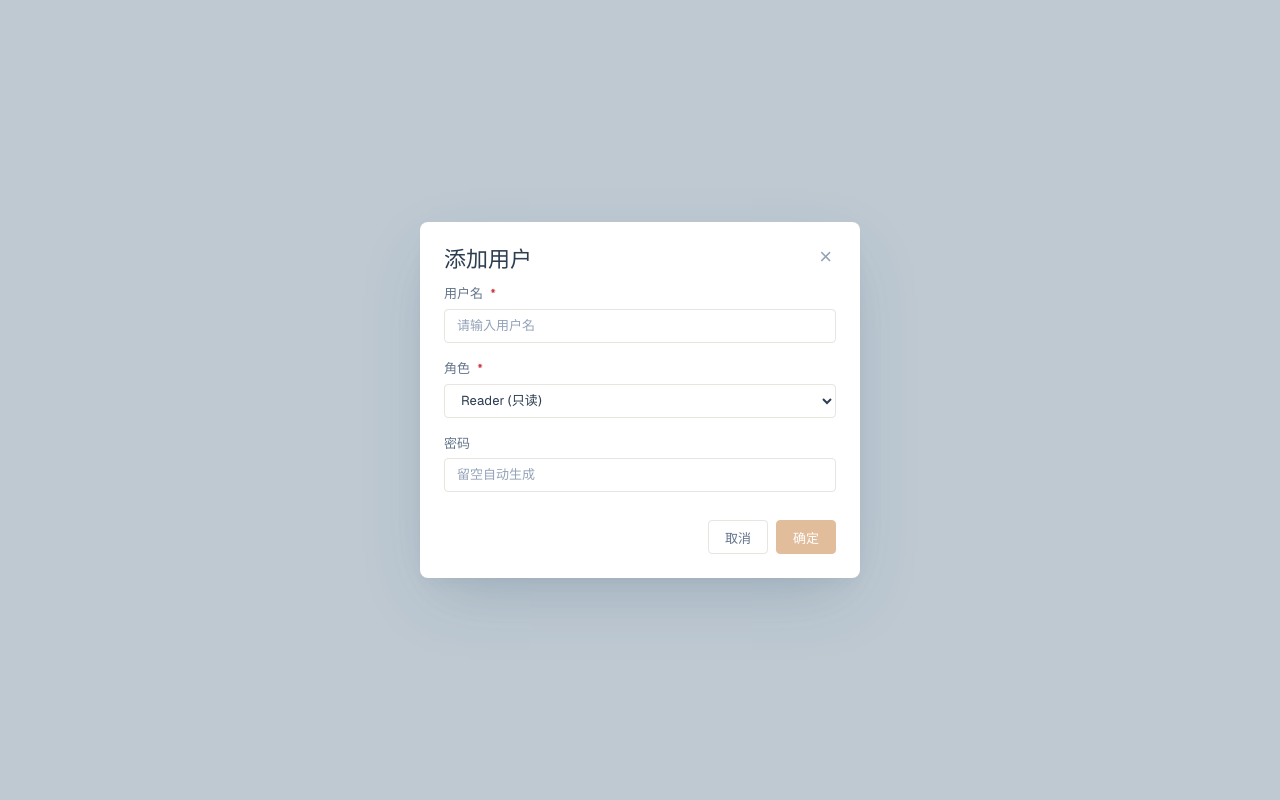
Scenario: CreateUserDialog › shows error message on API failure
The image size is (1280, 800).
Type "dupuser" into the field with placeholder "请输入用户名" at (640, 326), box [444,309,836,343]
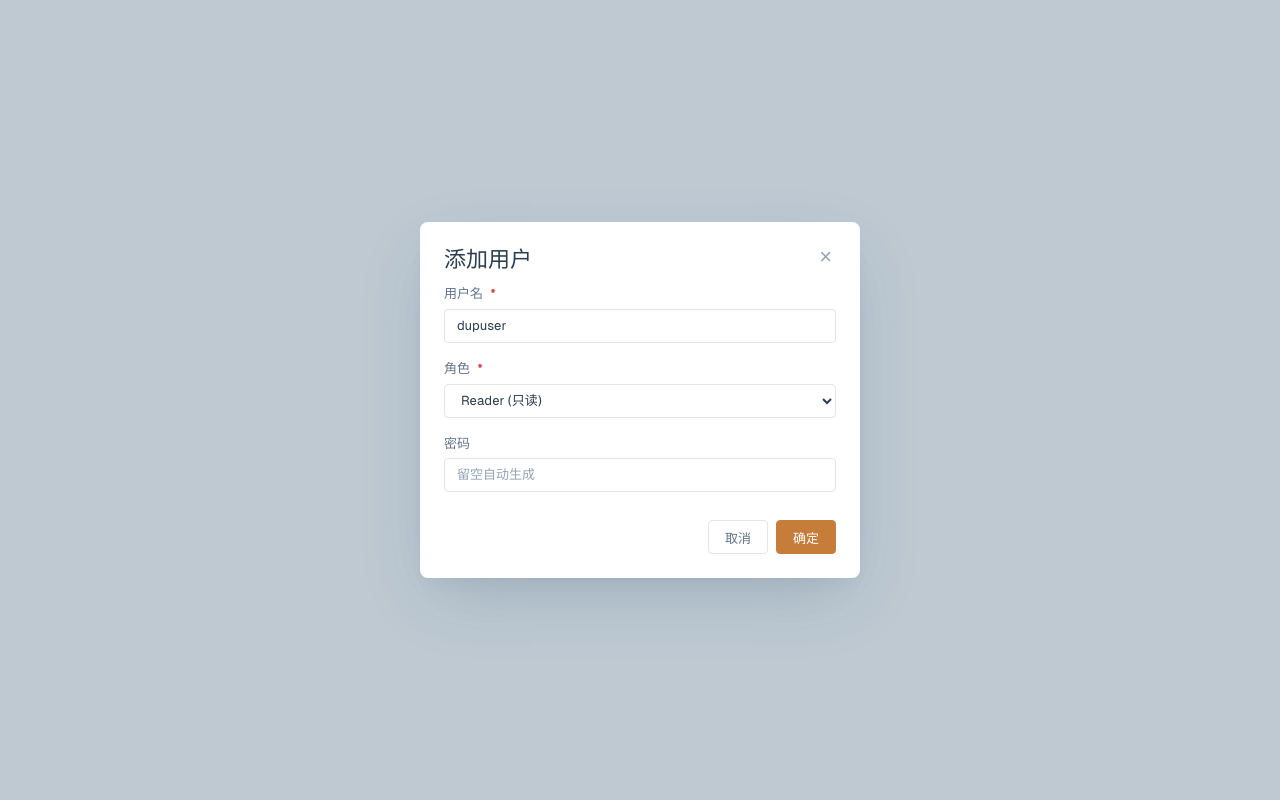
Click the button "确定" at (806, 537), box [776,520,836,554]
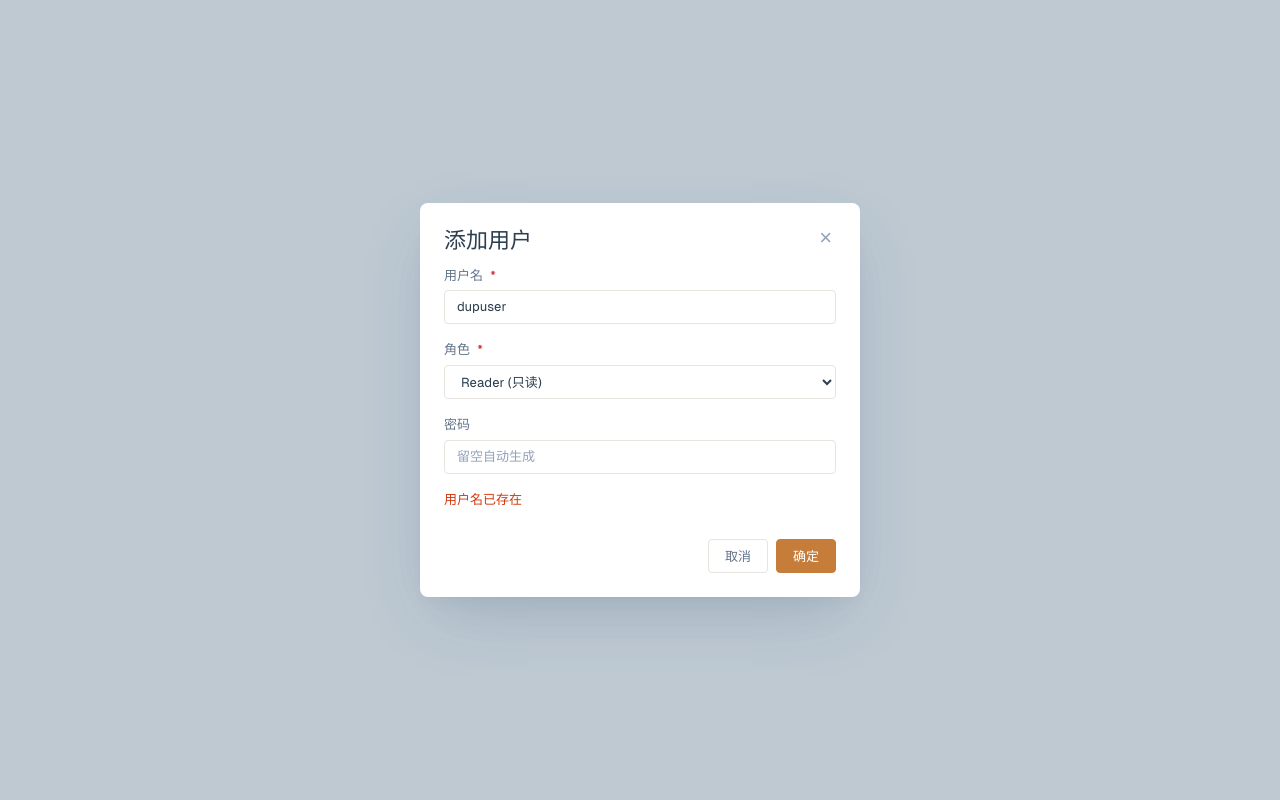
Now the text with class "error-msg" reads "用户名已存在", box [444,492,522,507]
